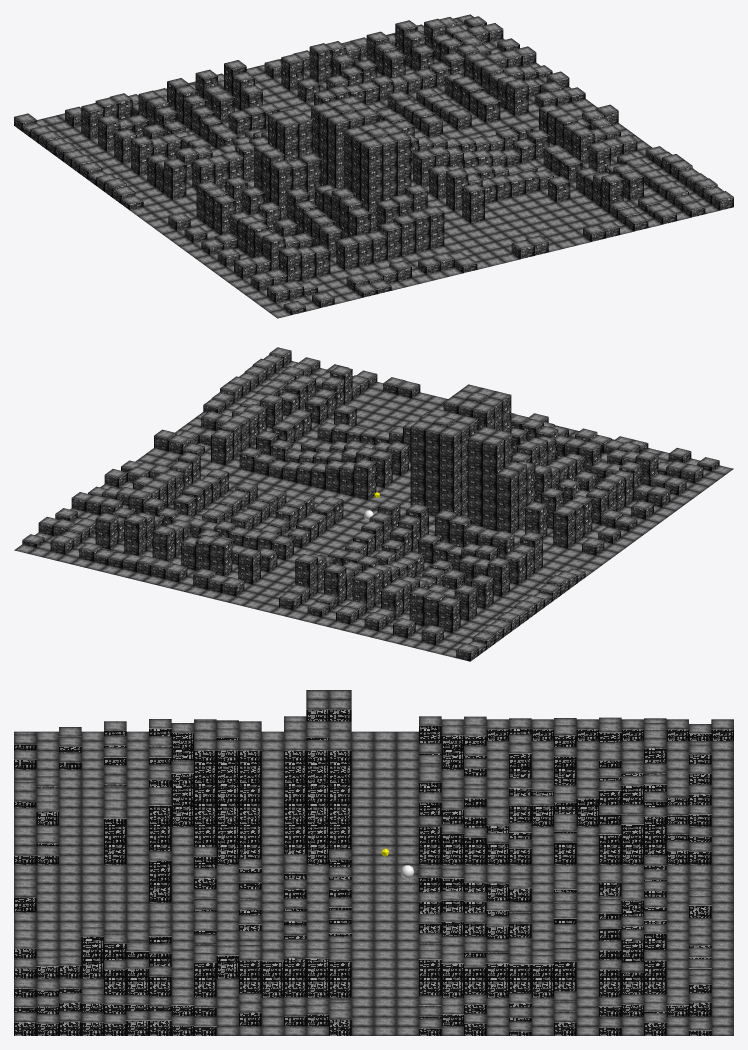
The model's file is city.gltf.
3 renders of one model, top to bottom at view 1: azimuth 30°, elevation 25°; view 2: azimuth 150°, elevation 25°; view 3: azimuth 270°, elevation 25°, orthographic. The views are drawn at different scales.
Visible parts, largest first — view 1: Cube; view 2: Cube; view 3: Cube.
Boxes of the visible parts, left/top/right/bottom form: Cube: left=14, top=14, right=733, bottom=318; Cube: left=14, top=347, right=733, bottom=661; Cube: left=14, top=690, right=733, bottom=1035.
Bounding box in the file's own units: 32 × 5.76 × 32.
Materials: 5 (4 with a texture image).
